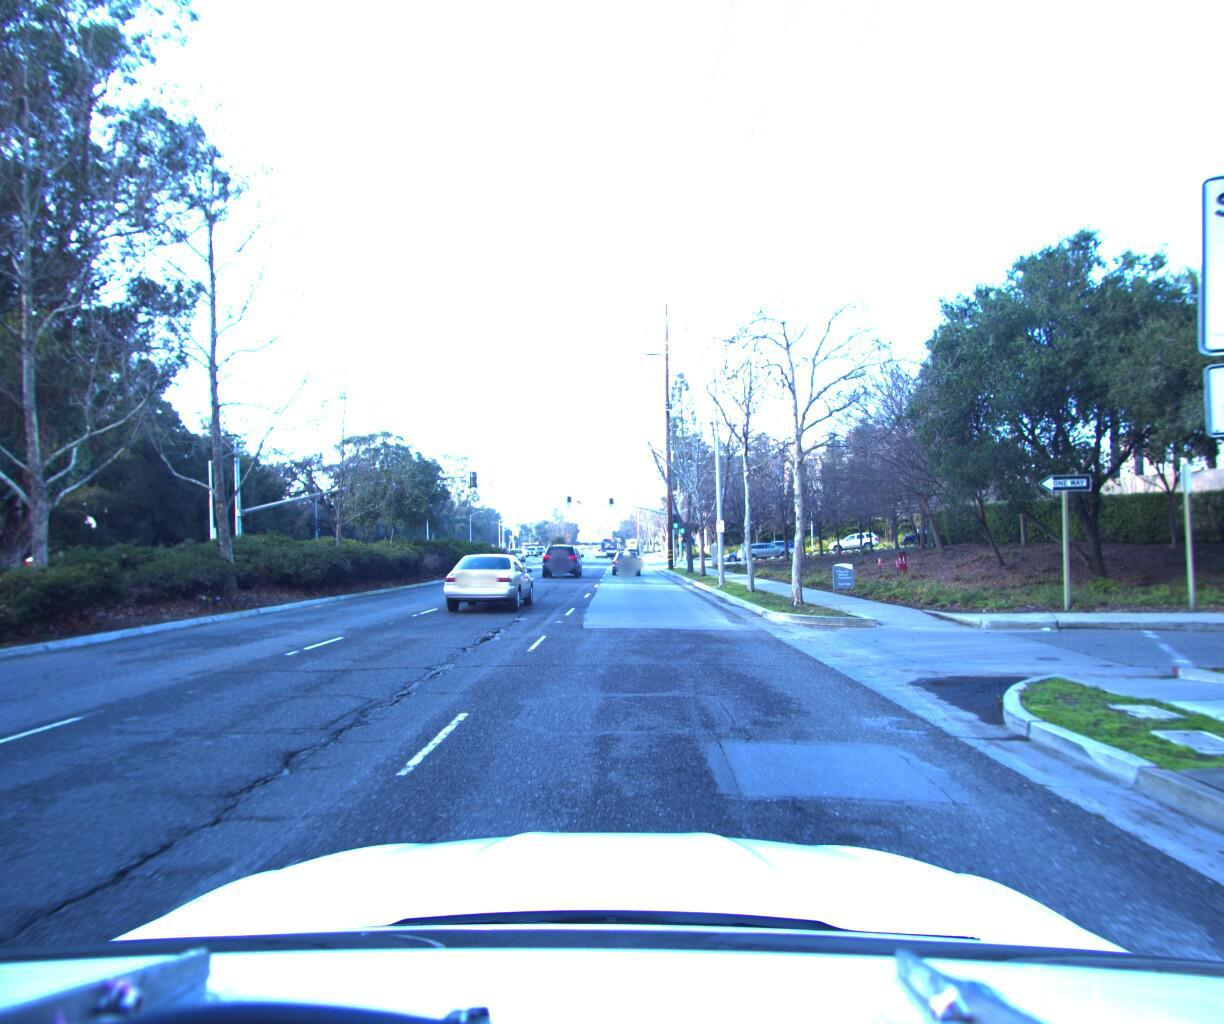car: (437, 547, 540, 615), (540, 539, 582, 573), (825, 525, 878, 549), (734, 536, 792, 555), (614, 543, 642, 571)
